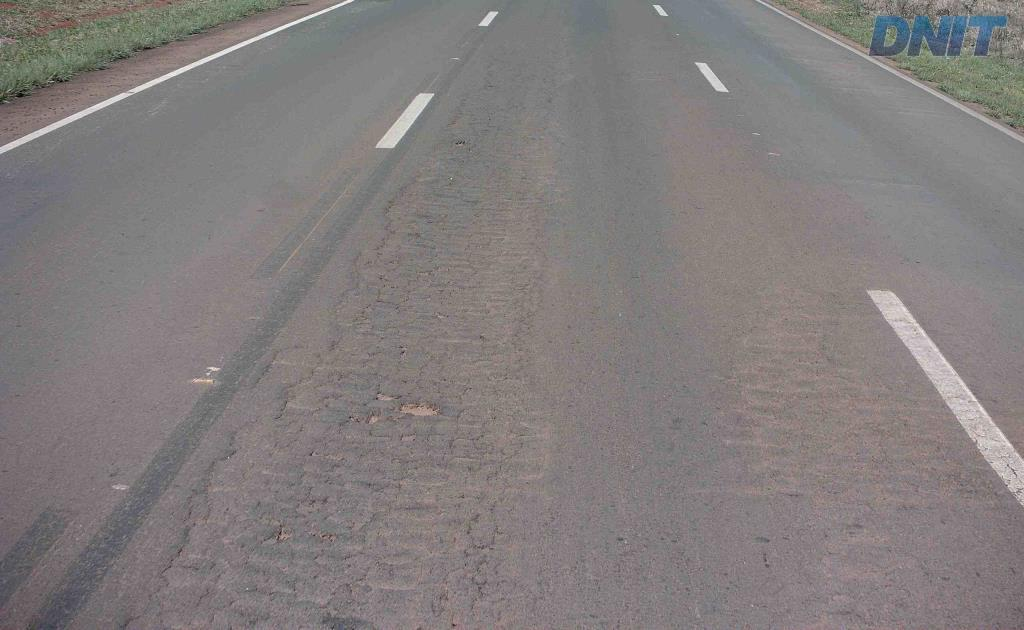crack: (321, 612, 363, 629)
pothole: (392, 394, 439, 416), (371, 385, 400, 401), (366, 411, 383, 423), (451, 139, 465, 148)
